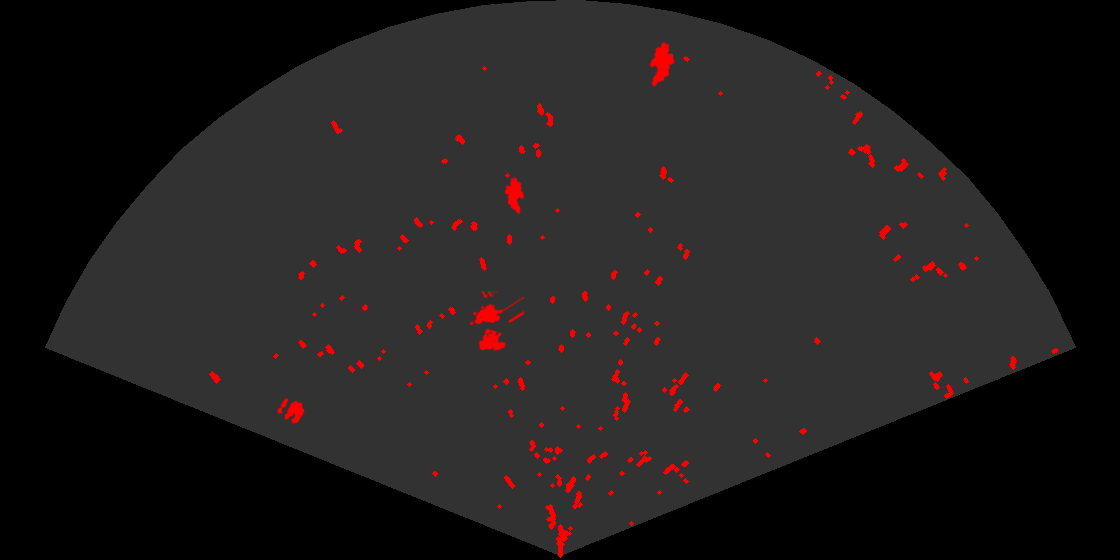AUV: (648, 40, 677, 89), (503, 175, 526, 216)
ball: (276, 396, 306, 426)
cage: (468, 291, 524, 353)
